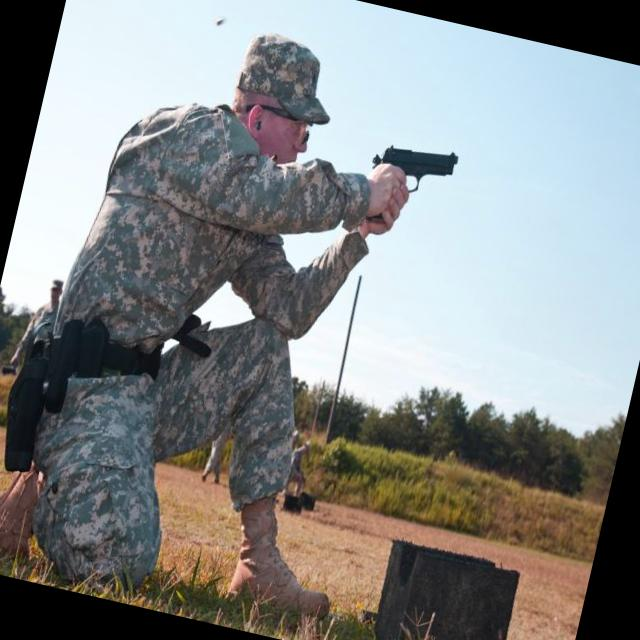Gun: (372, 145, 456, 192)
